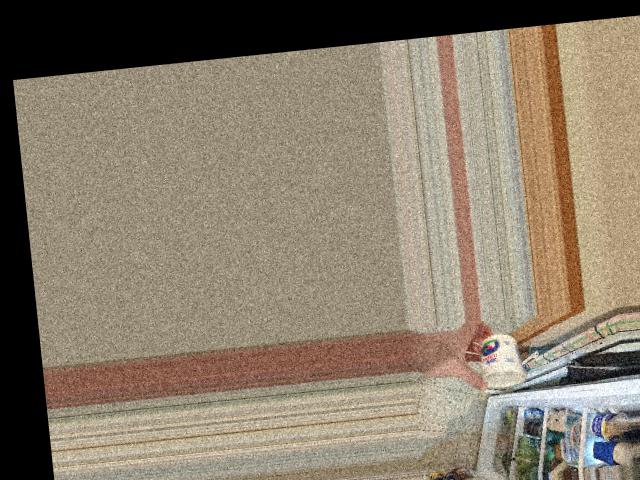cotage: (474, 332, 523, 386)
